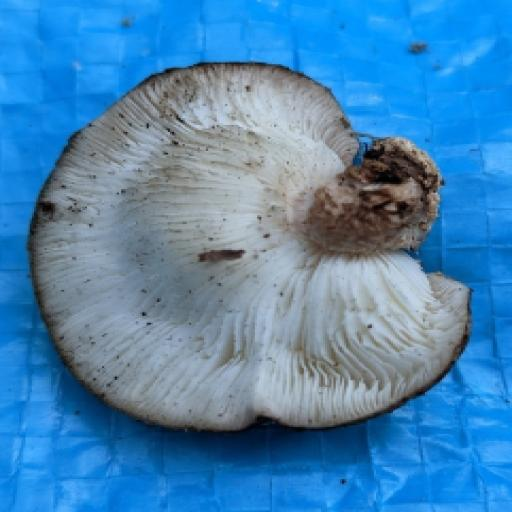Shiitake Mushroom: (0, 22, 483, 480)
